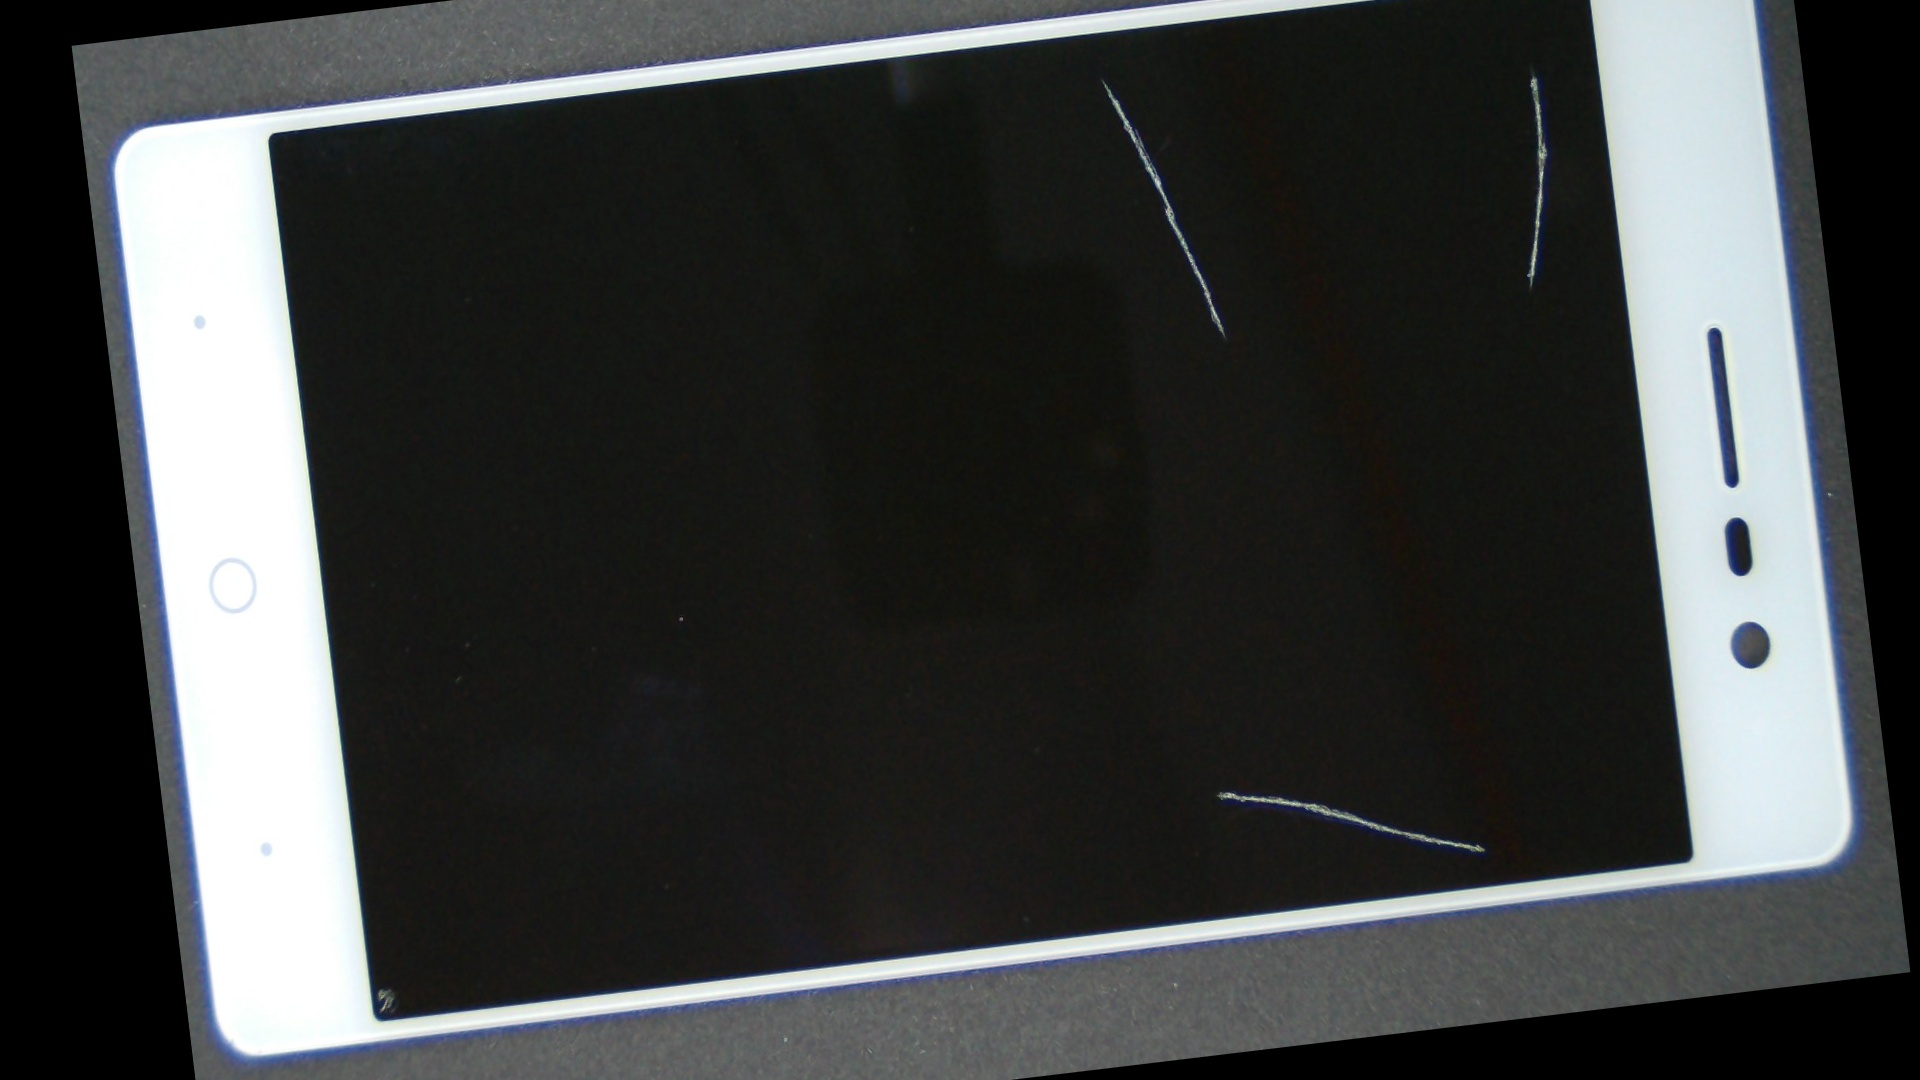oil: (646, 293, 1770, 1080), (803, 0, 1811, 261), (585, 0, 1615, 218), (225, 493, 496, 1080)
